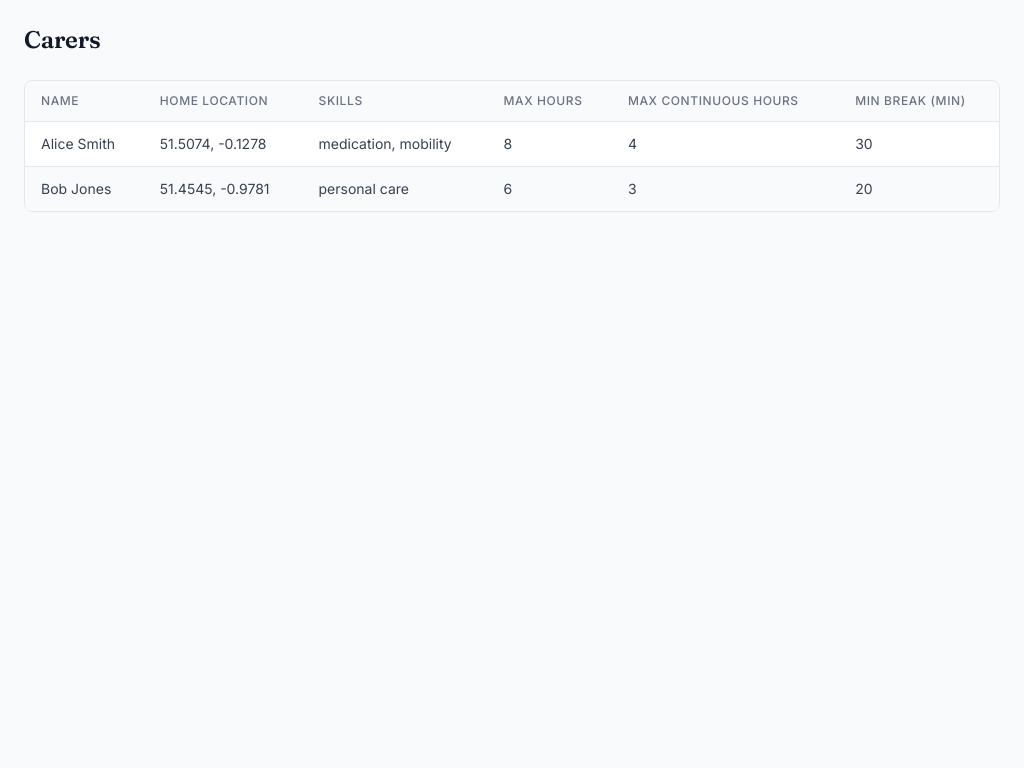
Test case: CarersPage › opens edit modal on row click
The image size is (1024, 768).
Click the text "Alice Smith" at (84, 144), box [25,122,144,166]
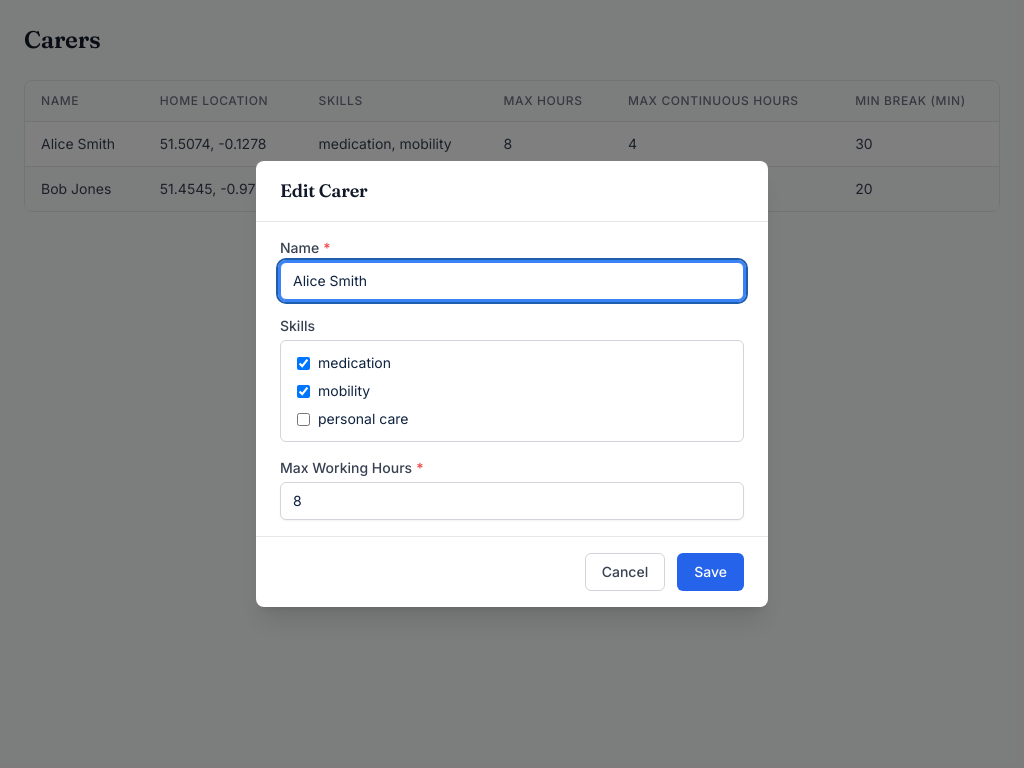
Result: the heading "Edit Carer" is shown at [280,179,368,202]
